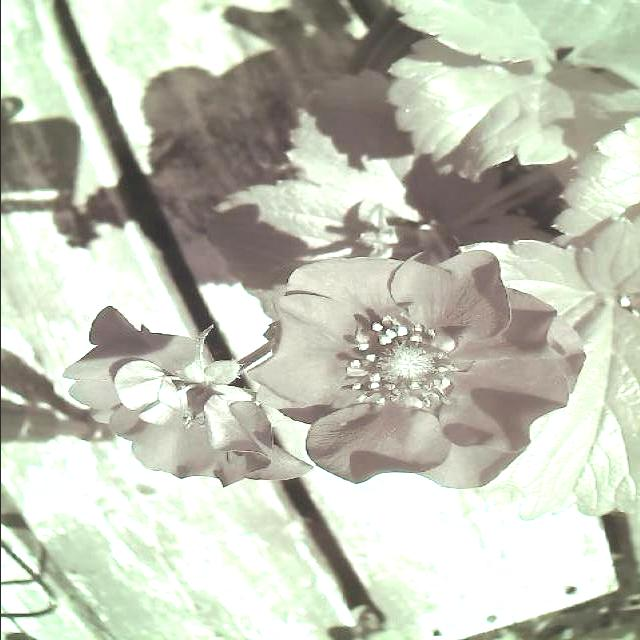flower: (242, 221, 594, 502), (48, 294, 314, 508)
